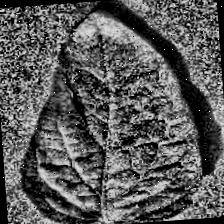spider mites: (9, 3, 206, 224)
